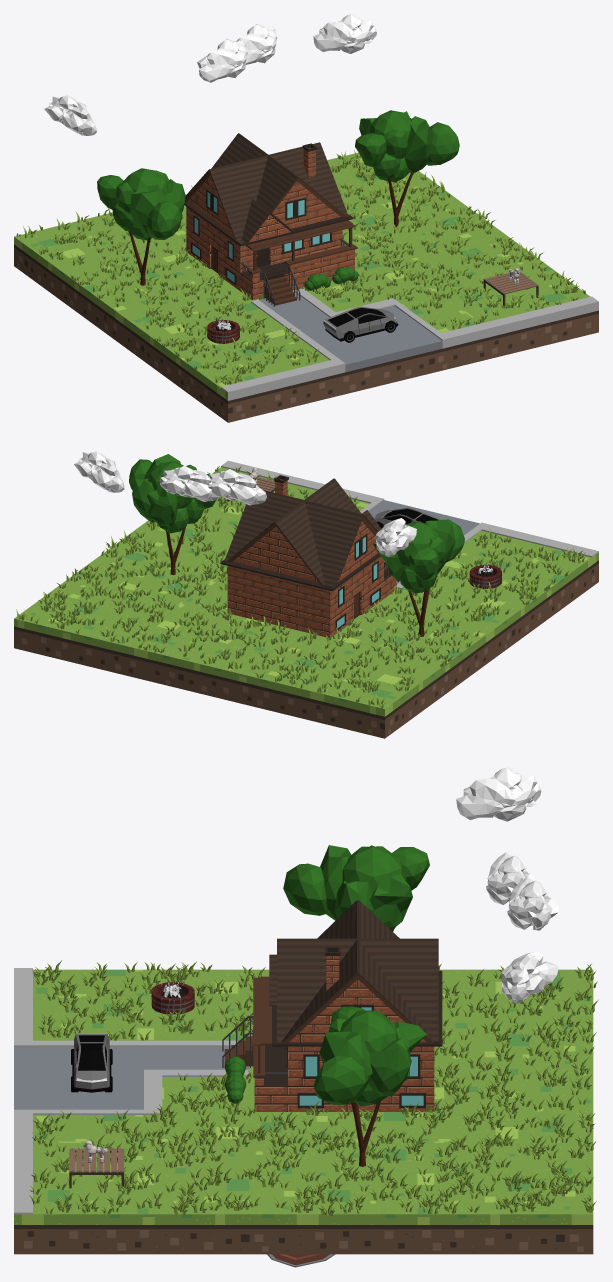
3 renders of one model, top to bottom at view 1: azimuth 30°, elevation 25°; view 2: azimuth 150°, elevation 25°; view 3: azimuth 270°, elevation 25°, orthographic. The views are drawn at different scales.
Parts seen in each view (by area): view 1: Cube.006, Cube.469, Circle.012_Grass_0.192, Cube.007, tree, tree.001, VEHICLES_CYBERTRUCK, Cube.009, OBJRANDOM_CAMPFIRE; view 2: Cube.006, Cube.469, Circle.012_Grass_0.192, Cube.007, tree.001, tree, VEHICLES_CYBERTRUCK, OBJRANDOM_CAMPFIRE; view 3: Cube.006, Circle.012_Grass_0.192, Cube.469, tree, Cube.007, tree.001, VEHICLES_CYBERTRUCK, Cube.009, OBJRANDOM_CAMPFIRE.
Part boxes in pixels (x1,y1,x2,y2): Cube.006: [14, 152, 598, 422]; Cube.469: [184, 133, 357, 306]; Circle.012_Grass_0.192: [16, 150, 585, 384]; Cube.007: [44, 14, 376, 135]; tree: [355, 110, 459, 227]; tree.001: [97, 168, 185, 285]; VEHICLES_CYBERTRUCK: [323, 306, 398, 342]; Cube.009: [483, 271, 538, 305]; OBJRANDOM_CAMPFIRE: [207, 318, 239, 343]; Cube.006: [14, 460, 598, 738]; Cube.469: [220, 475, 396, 637]; Circle.012_Grass_0.192: [16, 466, 585, 708]; Cube.007: [74, 451, 416, 557]; tree.001: [373, 519, 464, 636]; tree: [129, 454, 215, 574]; VEHICLES_CYBERTRUCK: [374, 507, 442, 528]; OBJRANDOM_CAMPFIRE: [469, 564, 501, 588]; Cube.006: [14, 968, 593, 1254]; Circle.012_Grass_0.192: [29, 960, 598, 1215]; Cube.469: [222, 900, 442, 1111]; tree: [313, 1006, 426, 1166]; Cube.007: [456, 767, 558, 1003]; tree.001: [283, 845, 429, 931]; VEHICLES_CYBERTRUCK: [71, 1033, 112, 1092]; Cube.009: [69, 1148, 123, 1188]; OBJRANDOM_CAMPFIRE: [151, 980, 194, 1014].
Bounding box in the file's own units: 4071 × 2892 × 4040.
34 materials, 4 textured.
